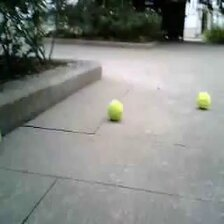tennis: (107, 101, 122, 118), (197, 92, 211, 109)
